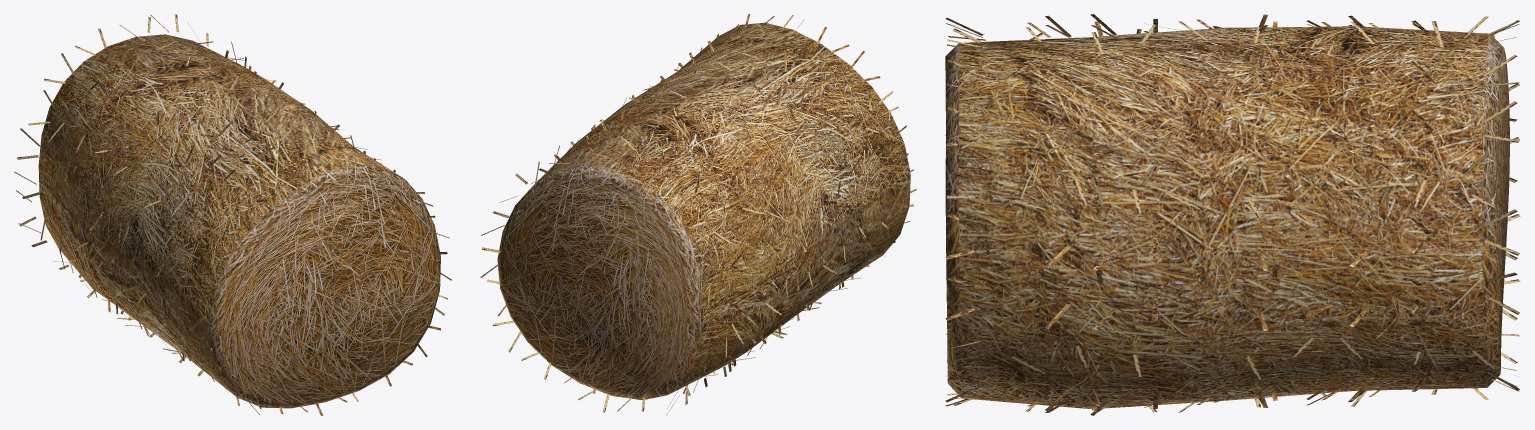
File: haystack_1.glb
3 views of the same model, side by side, from view 1: azimuth 30°, elevation 25°; view 2: azimuth 150°, elevation 25°; view 3: azimuth 270°, elevation 25° (orthographic). The views are drawn at different scales.
Visible parts, largest first — view 1: Cylinder.005, Cube.186, Cube.187, Cube.201, Cube.193; view 2: Cylinder.005, Cube.186, Cube.187, Cube.201, Cube.193, Cube.200; view 3: Cylinder.005, Cube.198, Cube.193, Cube.187, Cube.199.
Boxes of the visible parts, box(x1,y1,x2,y2) form: Cylinder.005: box(38, 34, 440, 408); Cube.186: box(14, 90, 237, 318); Cube.187: box(44, 16, 337, 225); Cube.201: box(16, 190, 259, 414); Cube.193: box(150, 14, 433, 206); Cylinder.005: box(497, 22, 910, 400); Cube.186: box(697, 91, 913, 344); Cube.187: box(592, 15, 880, 227); Cube.201: box(666, 188, 916, 415); Cube.193: box(499, 14, 774, 202); Cube.200: box(578, 275, 853, 412); Cylinder.005: box(945, 26, 1509, 409); Cube.198: box(945, 196, 1519, 379); Cube.193: box(945, 48, 1519, 217); Cube.187: box(945, 14, 1519, 54); Cube.199: box(945, 365, 1519, 415).
Bounding box in the file's own units: 2.21 × 2.14 × 3.12.
2 materials, 2 textured.
